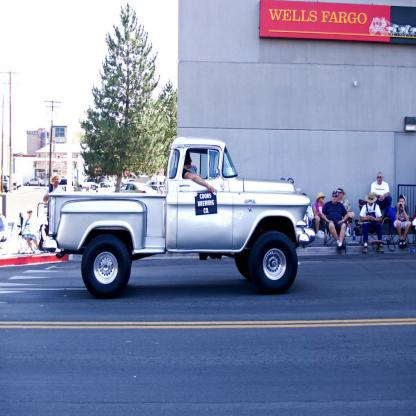Car: (40, 137, 314, 300), (0, 172, 168, 194)
Truck: (30, 139, 326, 296)
